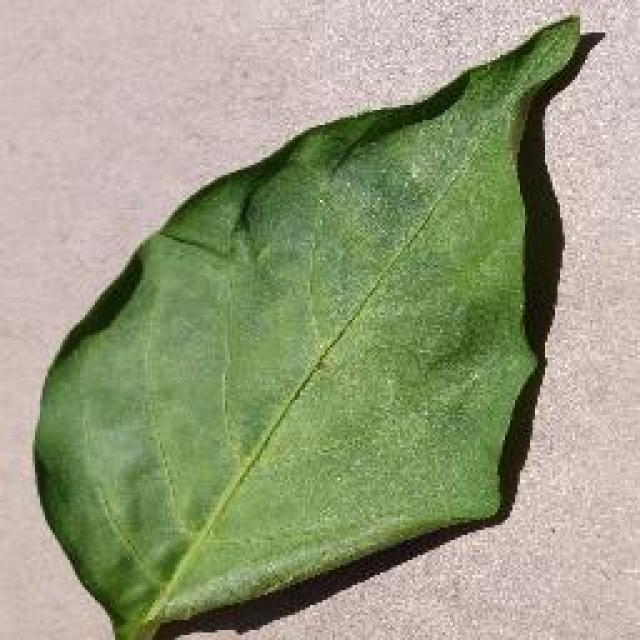Leaf: (140, 134, 551, 491)
